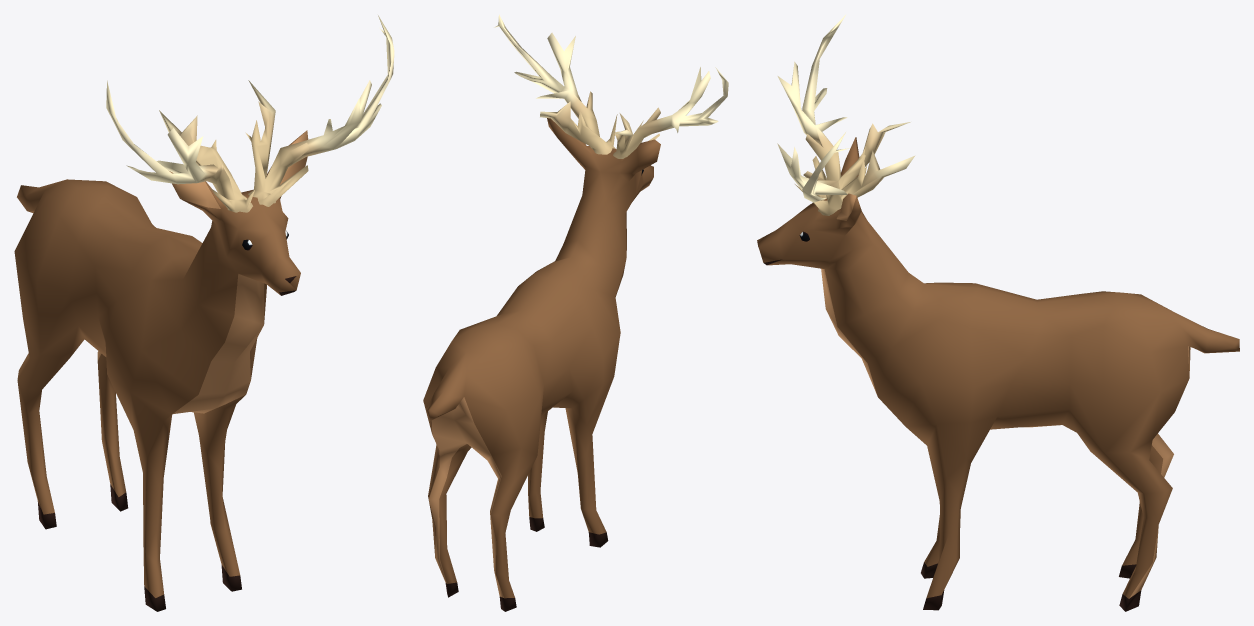
Rendered from DeerMale.glb.
3 views of the same model, side by side, from view 1: azimuth 30°, elevation 25°; view 2: azimuth 150°, elevation 25°; view 3: azimuth 270°, elevation 25° (orthographic). The views are drawn at different scales.
Visible parts, largest first — view 1: DeerMale; view 2: DeerMale; view 3: DeerMale.
Boxes of the visible parts, box(x1,y1,x2,y2) form: DeerMale: box(14, 15, 394, 611); DeerMale: box(423, 14, 728, 611); DeerMale: box(757, 15, 1239, 611).
Size of what is drawn, in the model's own units: 1.25 by 2.44 by 2.05.
Materials: 1 (1 with a texture image).
